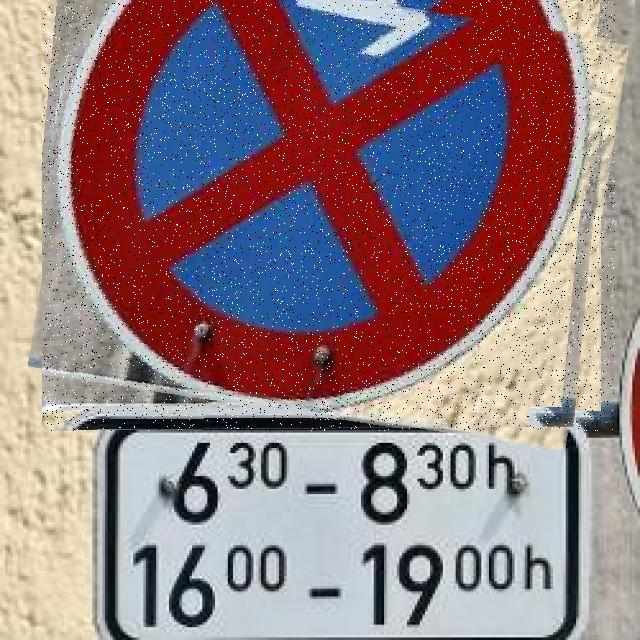no stopping: (42, 0, 615, 431)
